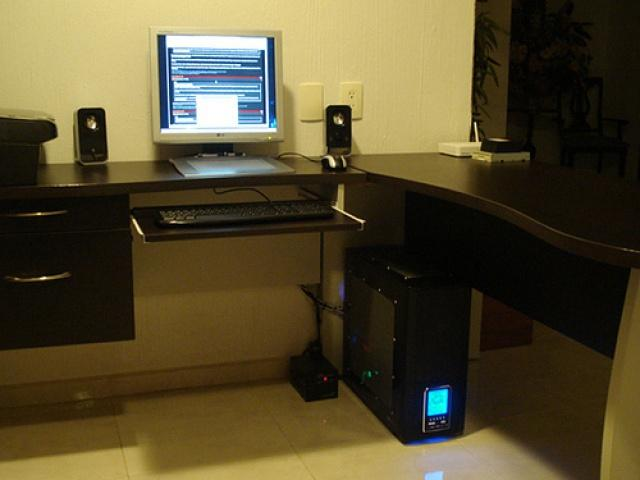AIO PC-Monitor-TV: (147, 24, 285, 149)
